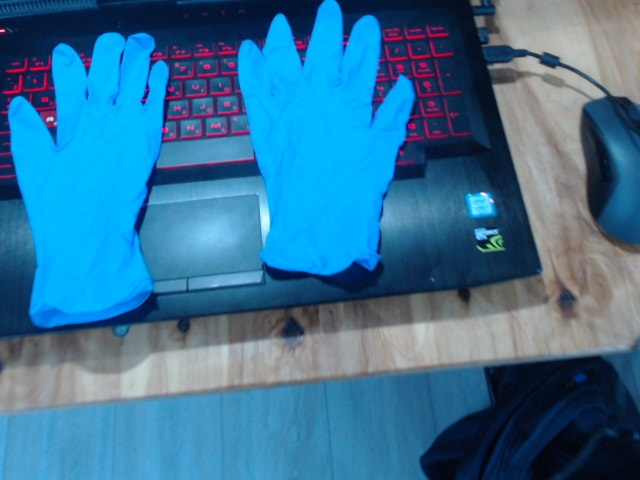medical_glove: (237, 1, 415, 275), (7, 31, 169, 327)
